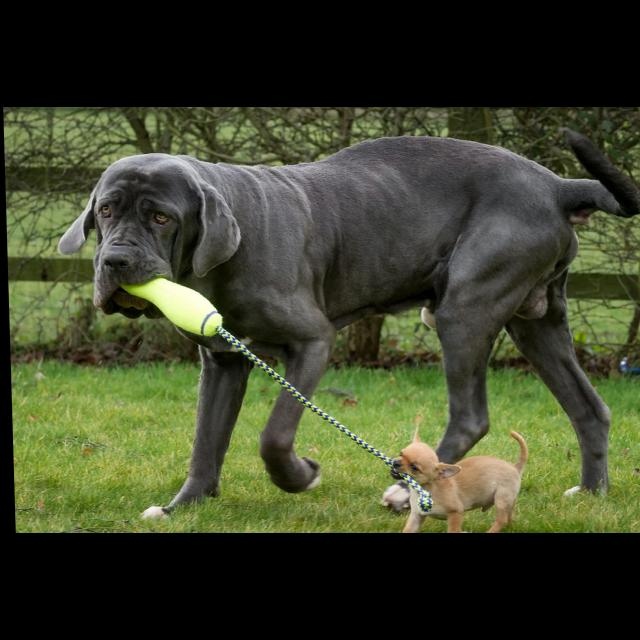mastino_napoletano: (54, 128, 640, 524)
other_dog_breed: (377, 426, 529, 535)
